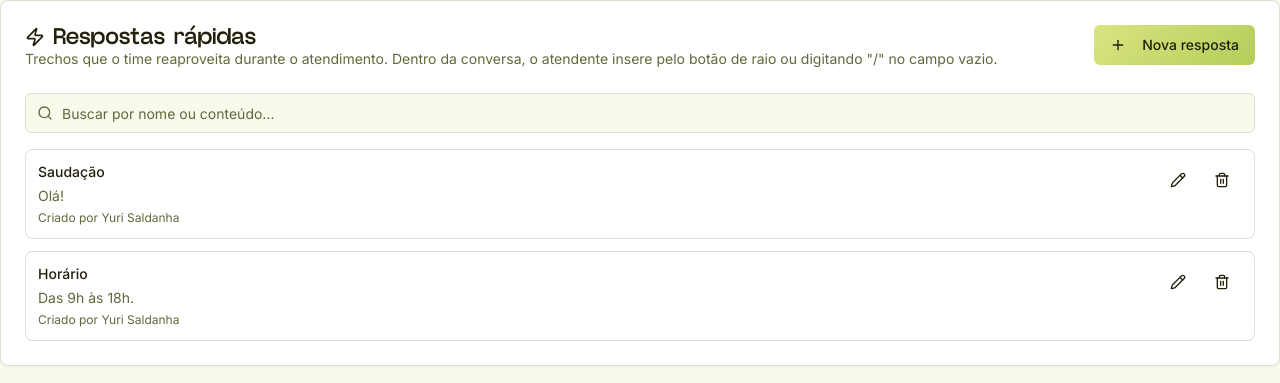
Test: busca › filtra ignorando acento
In the field named "Buscar respostas rápidas": (640, 113) [25,93,1255,133], type "saudacao"
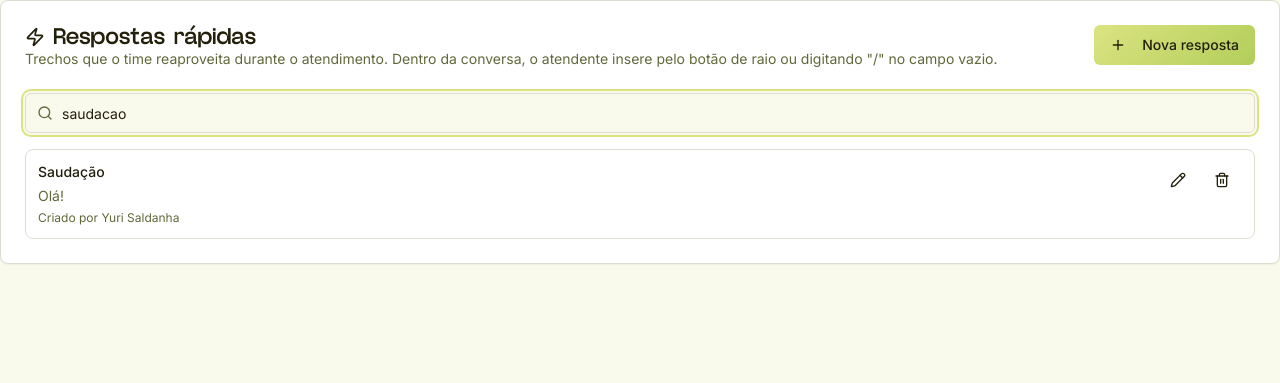
Expected: the text "Saudação" is shown, [38,163,105,180]
Now the text "Horário" is gone
